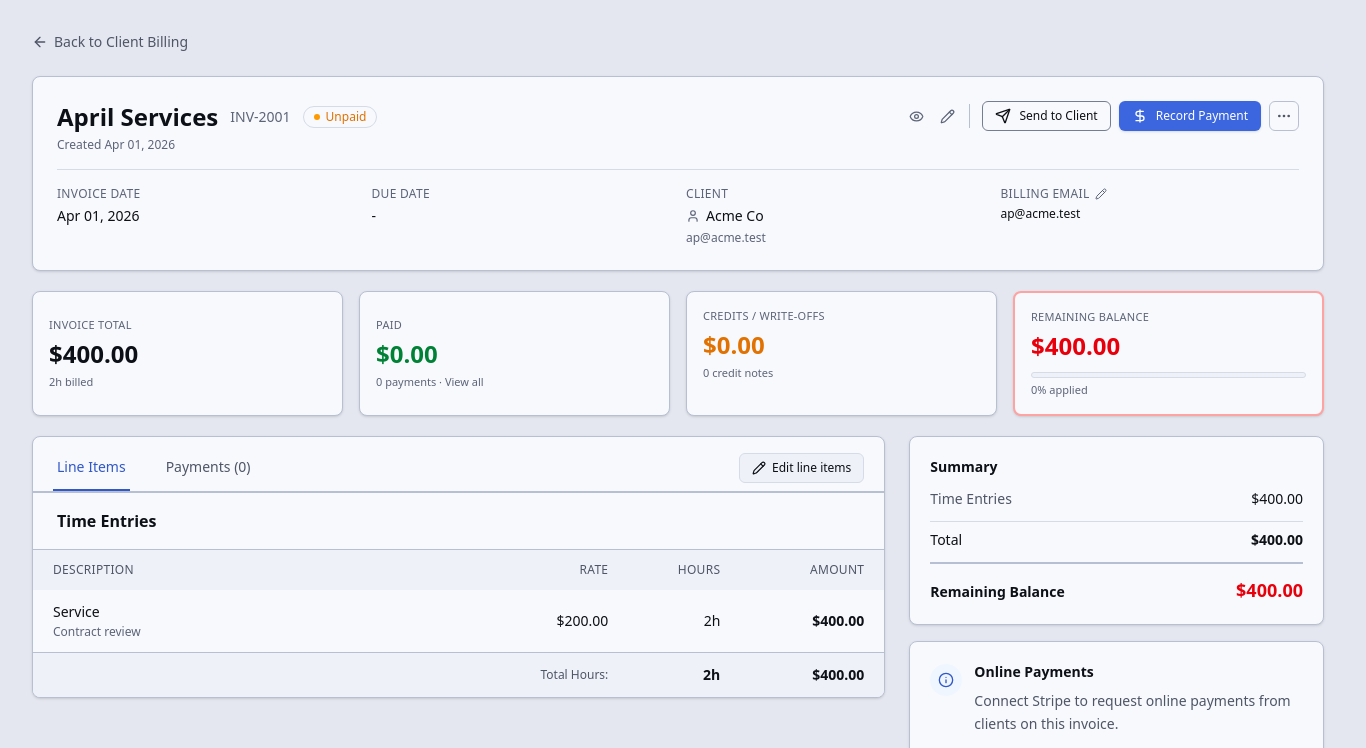
it: adding a credit note › reports a refused credit note inside the dialog only
Click the button named "More actions" at (1284, 116), box [1269,101,1299,131]
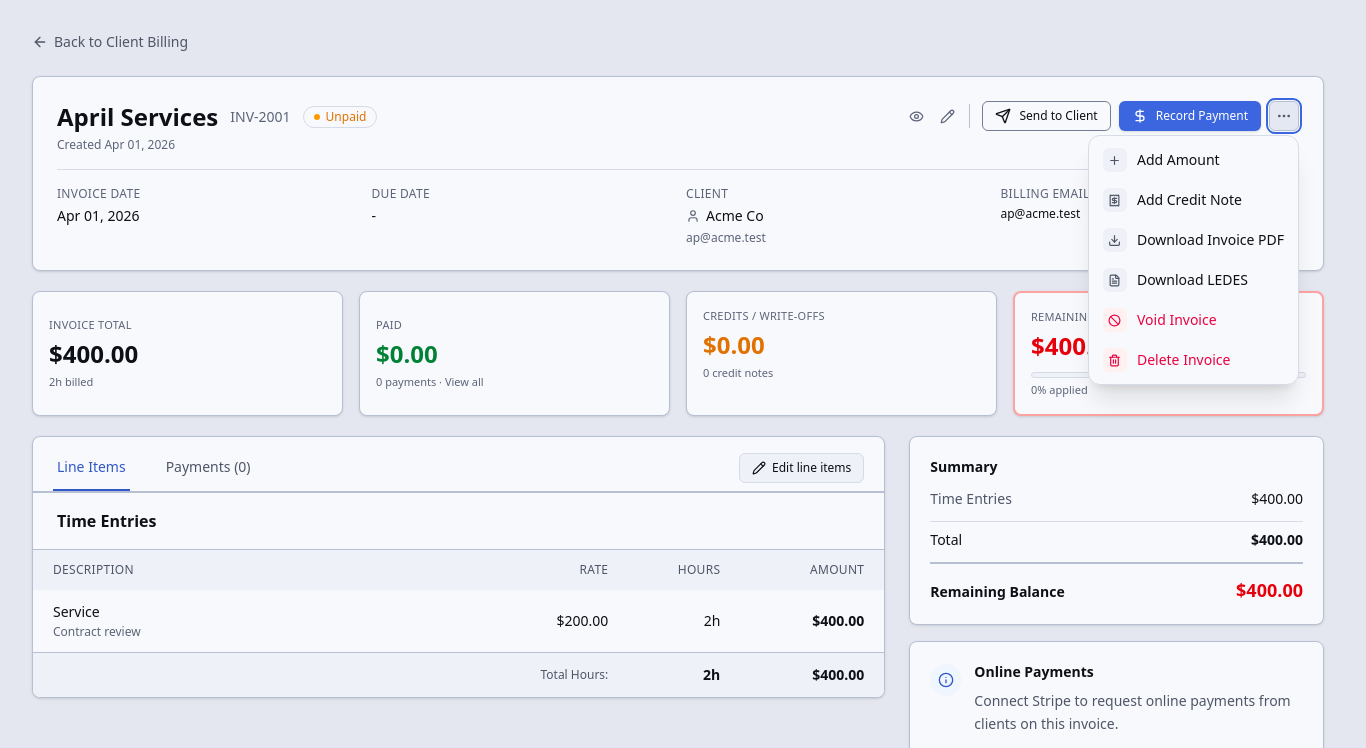
Click the button "Add Credit Note" at (1193, 200), box [1093,180,1294,220]
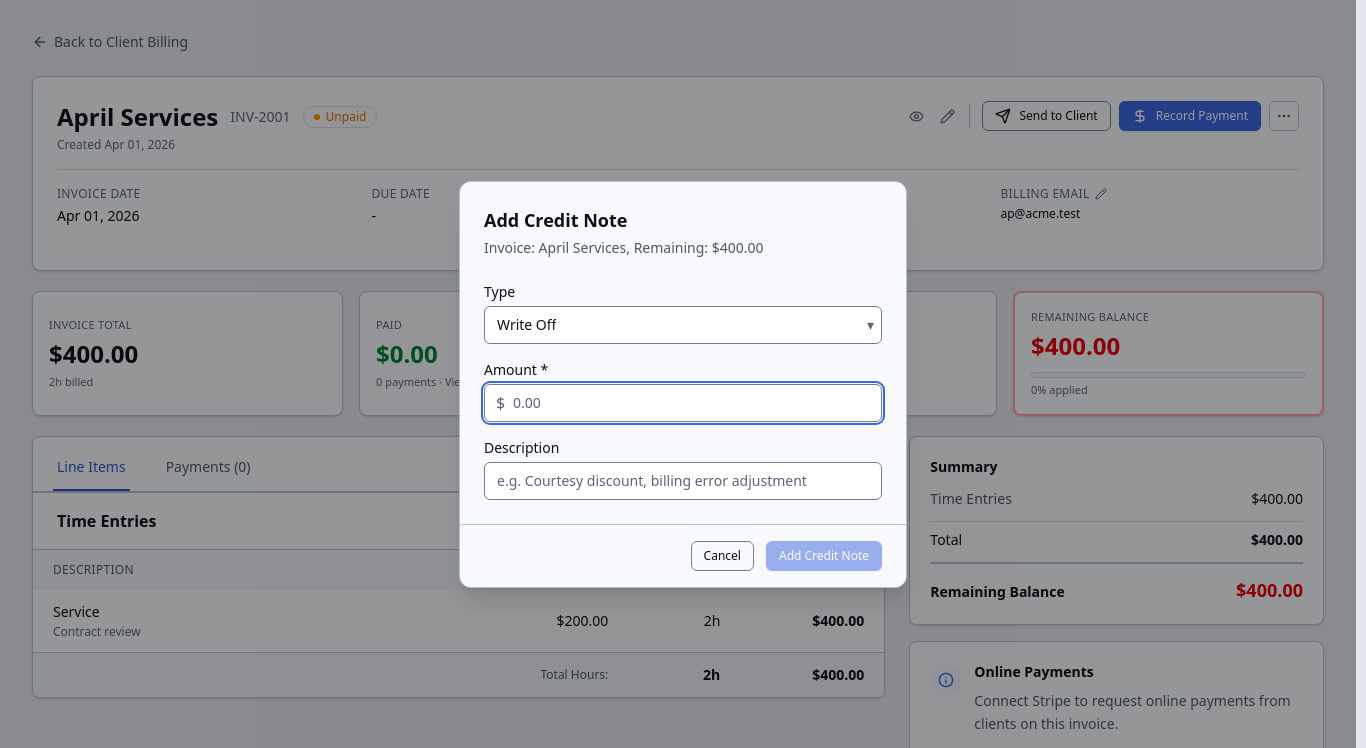
Type "40" into the number field with placeholder "0.00" at (683, 402), box [484,384,882,422]
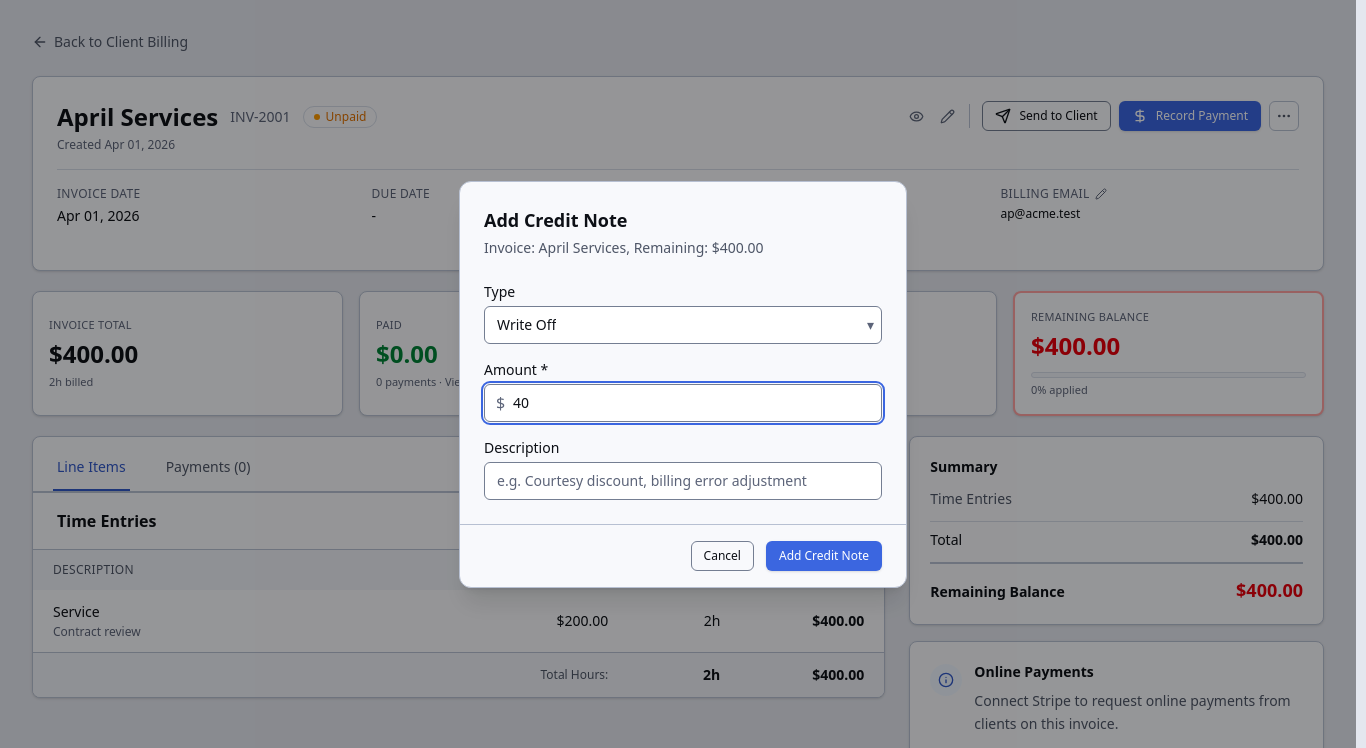
Click the button "Add Credit Note" at (824, 556), box [766,540,882,570]
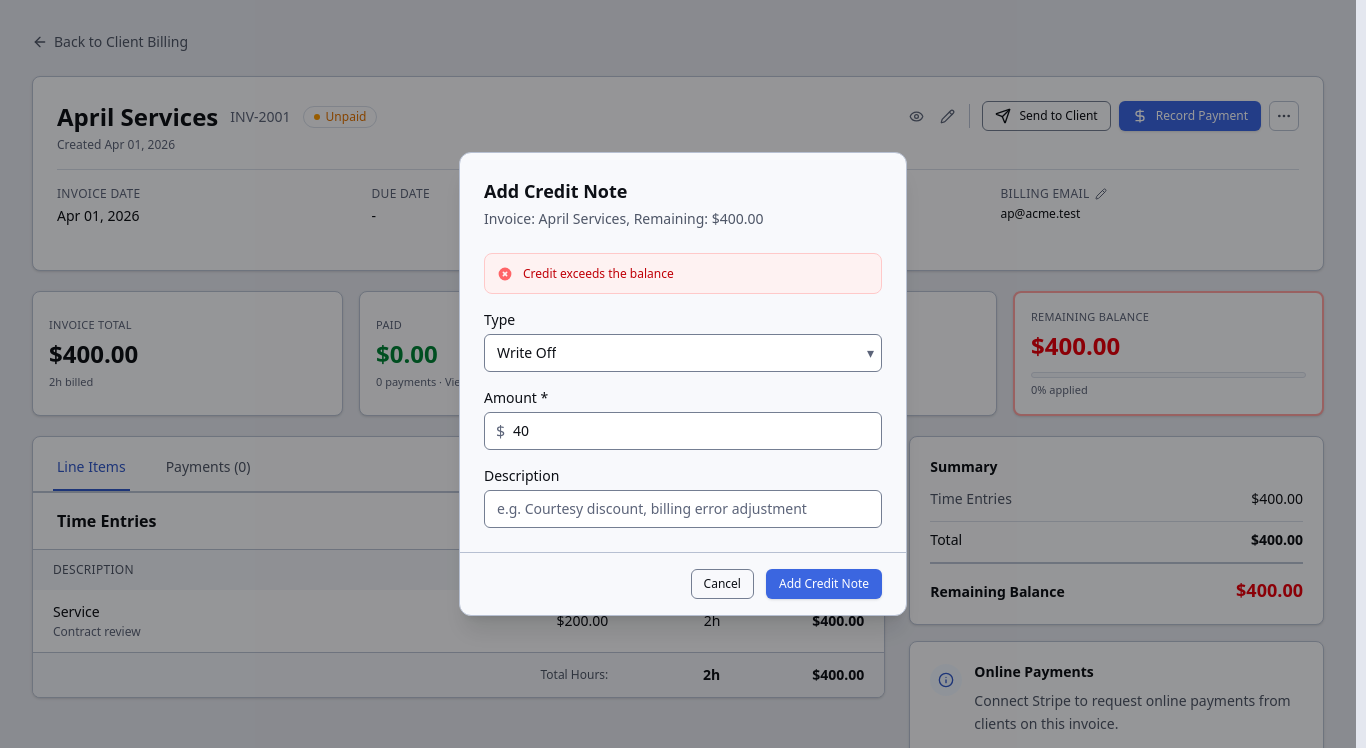
Result: the text "Credit exceeds the balance" is shown once at [523,265,674,282]
